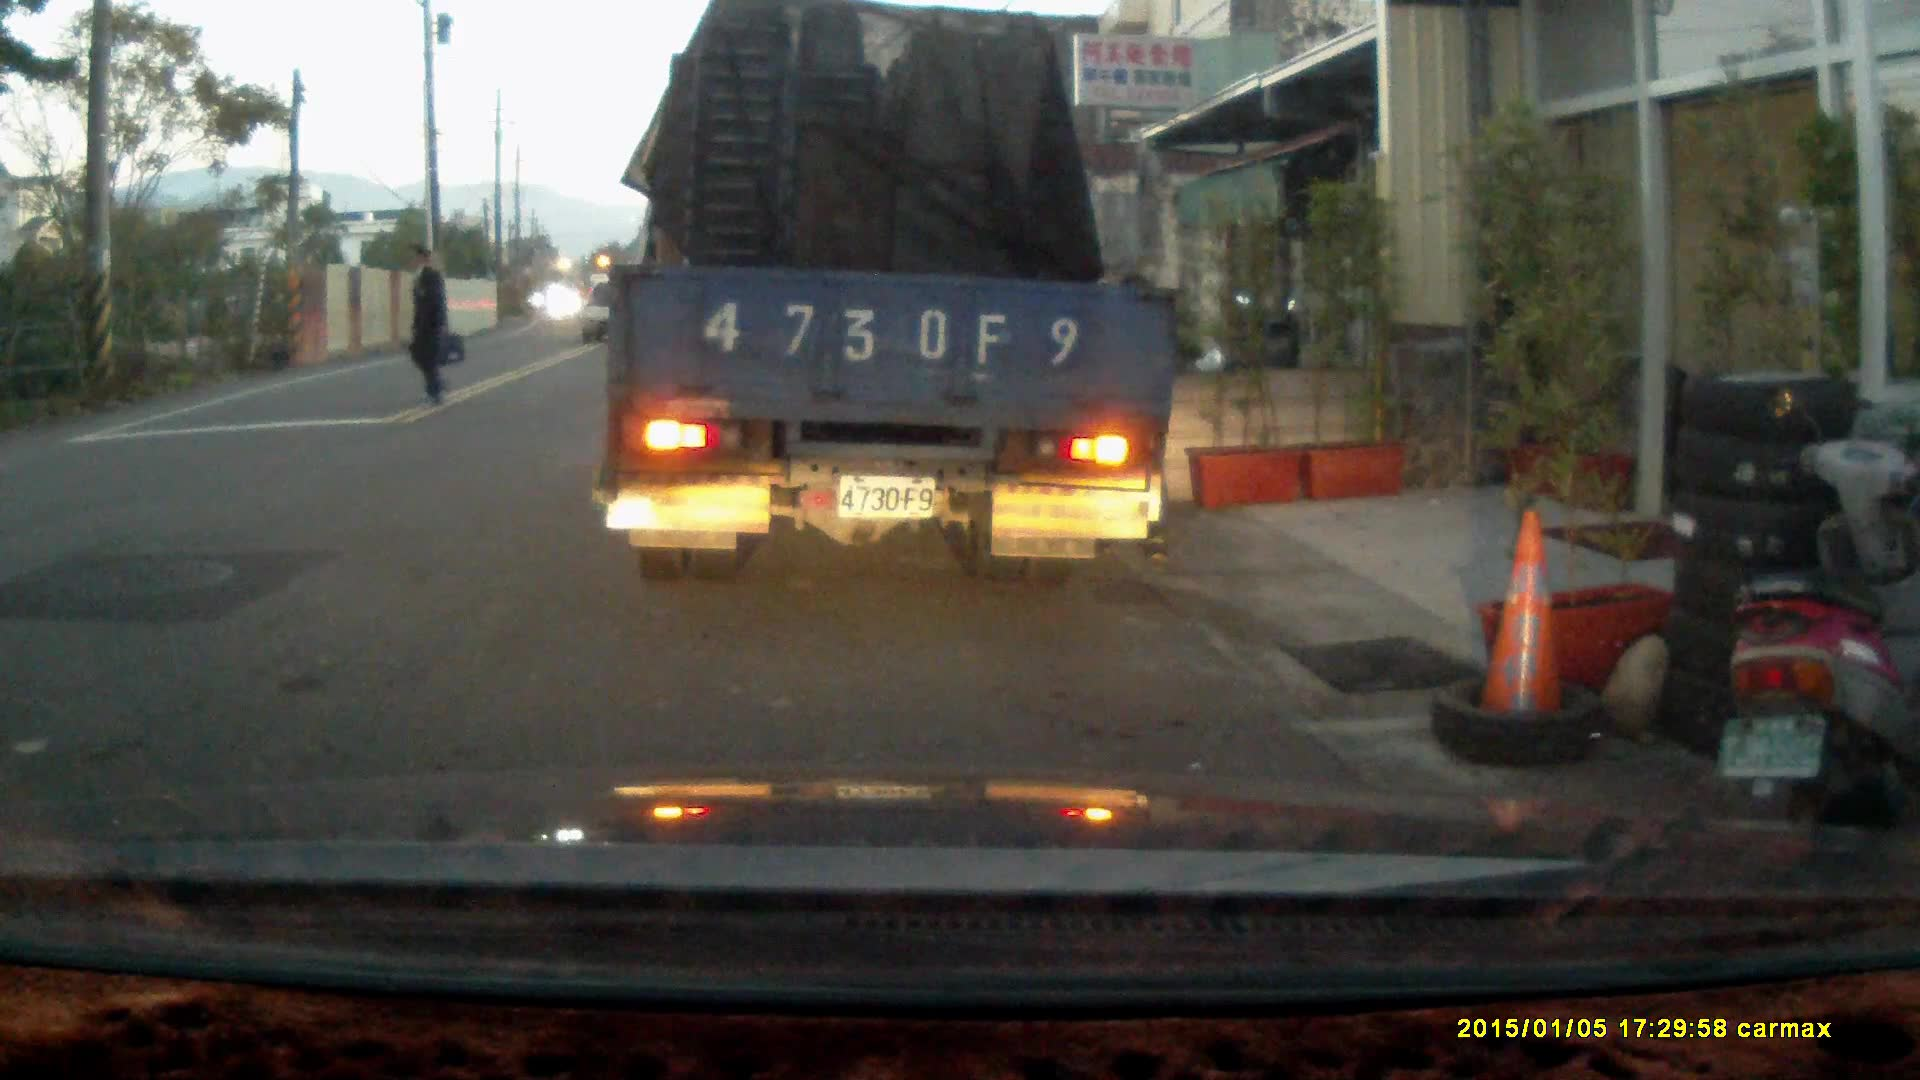pedestrian: (398, 239, 461, 407)
vehicle: (604, 23, 1188, 572), (578, 281, 642, 346)
